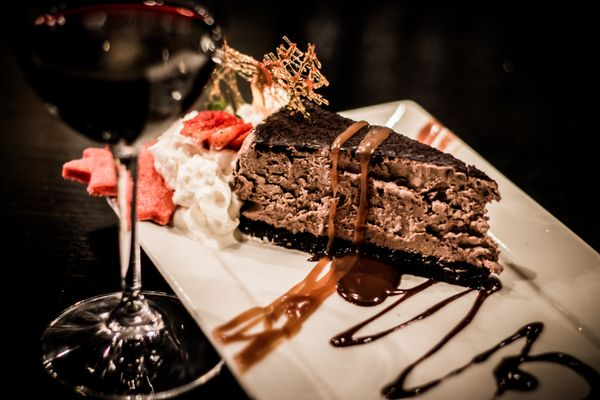burger: (41, 144, 222, 393)
